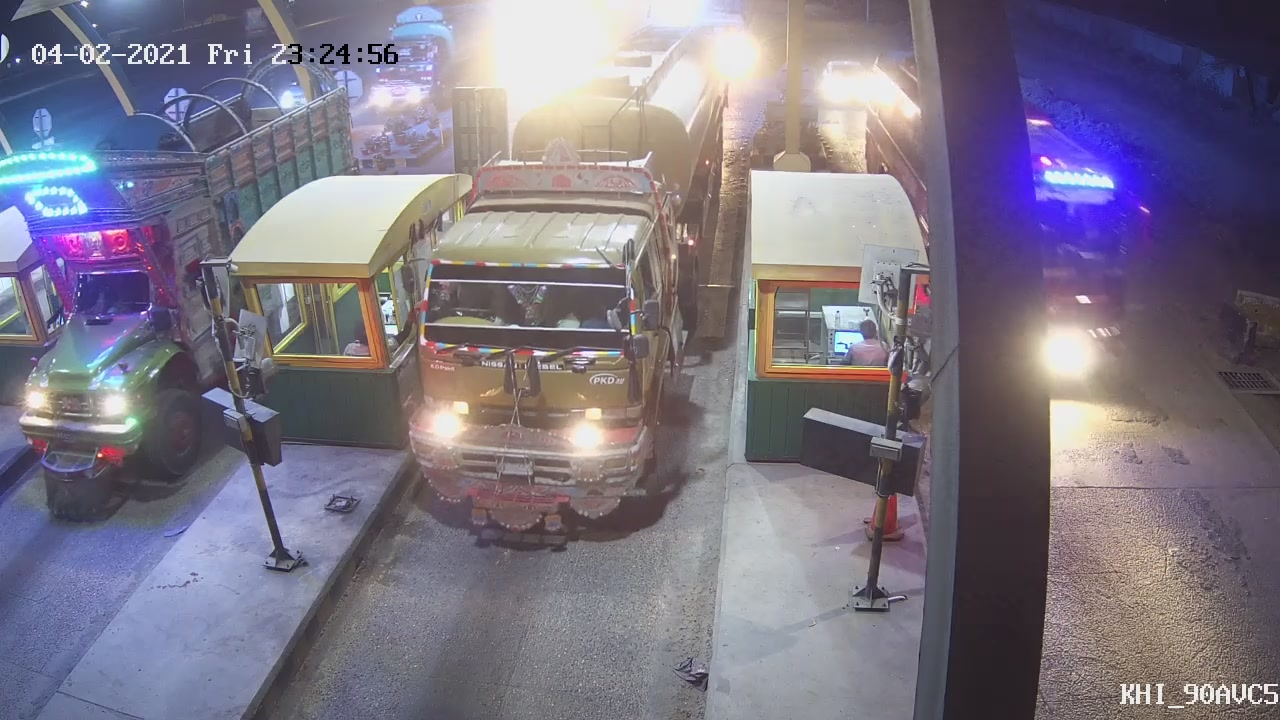F6: (397, 35, 734, 539)
